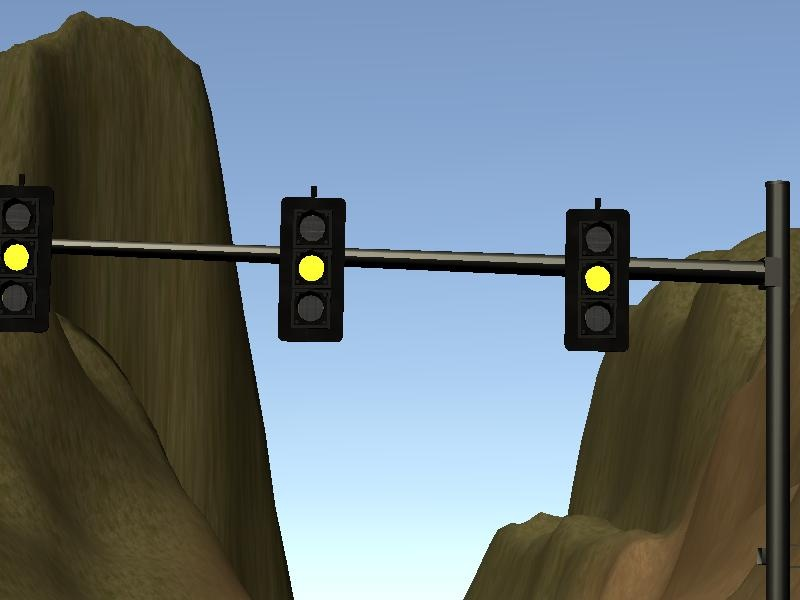YELLOW: (273, 192, 348, 347), (559, 199, 634, 354), (1, 185, 53, 332)
